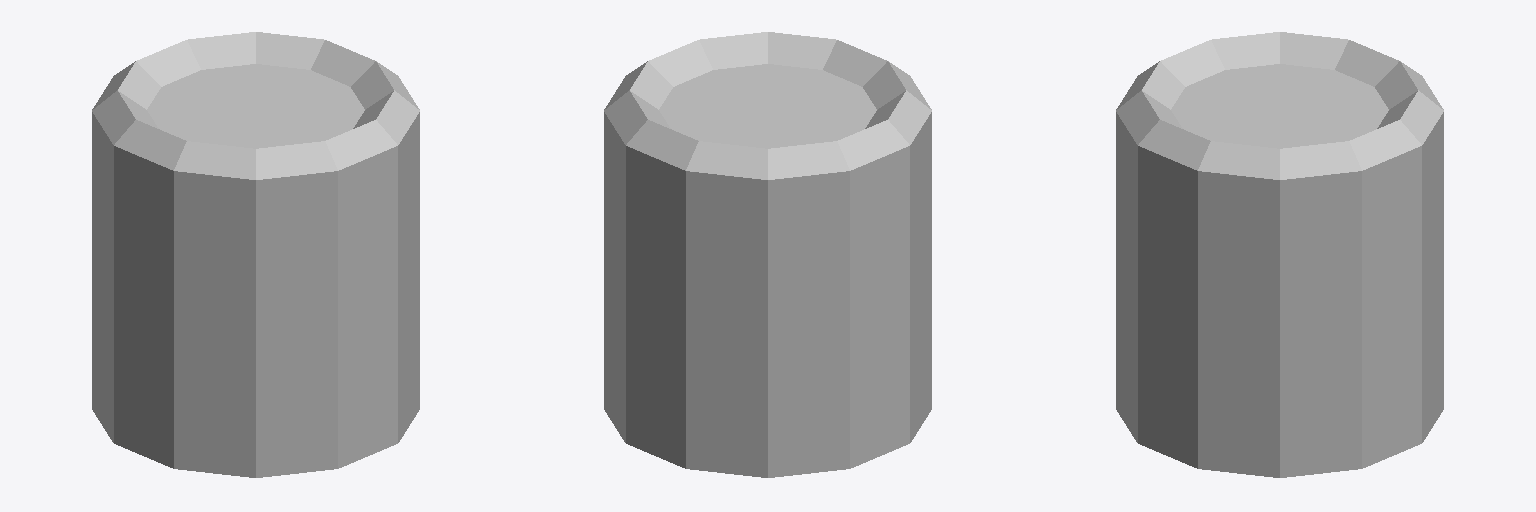
File: Barrel.obj
3 renders of one model, left to right at view 1: azimuth 30°, elevation 25°; view 2: azimuth 150°, elevation 25°; view 3: azimuth 270°, elevation 25°, orthographic.
Visible parts, largest first — view 1: pCylinder2; view 2: pCylinder2; view 3: pCylinder2.
Boxes of the visible parts, x1=… form: pCylinder2: x1=92, y1=32, x2=419, y2=477; pCylinder2: x1=604, y1=32, x2=931, y2=477; pCylinder2: x1=1116, y1=32, x2=1443, y2=477.
Bounding box in the file's own units: 5.58 × 6.2 × 5.58.